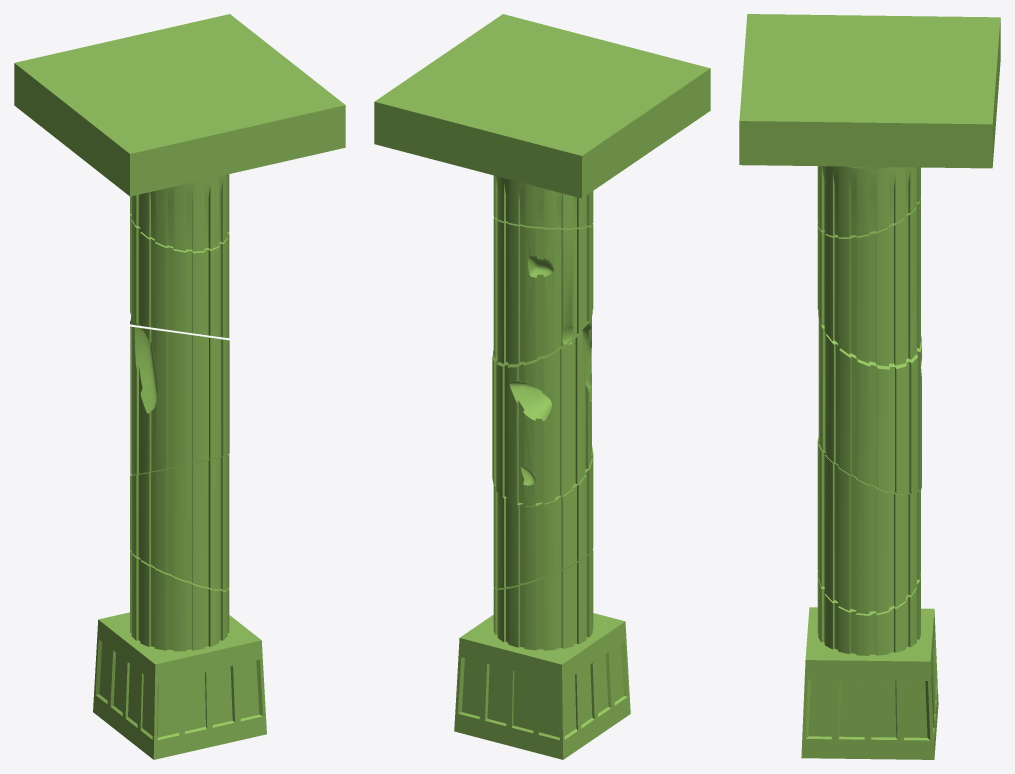
Rendered from ColumnFull1.obj.
3 views of the same model, side by side, from view 1: azimuth 30°, elevation 25°; view 2: azimuth 150°, elevation 25°; view 3: azimuth 270°, elevation 25° (orthographic). The views are drawn at different scales.
Visible parts, largest first — view 1: ColumnFull1; view 2: ColumnFull1; view 3: ColumnFull1.
Boxes of the visible parts, x1,y1,x2,y2 form: ColumnFull1: (14, 14, 345, 759); ColumnFull1: (374, 14, 710, 759); ColumnFull1: (739, 14, 1000, 759).
Bounding box in the file's own units: 14.08 × 39.38 × 14.08.
